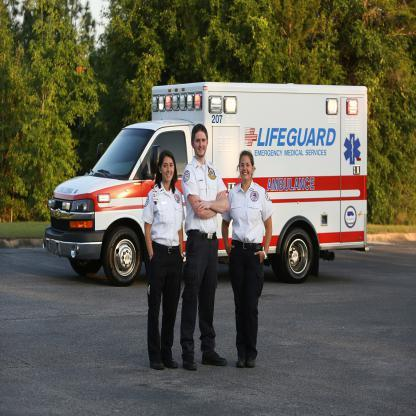ambulance_off: (45, 83, 368, 282)
